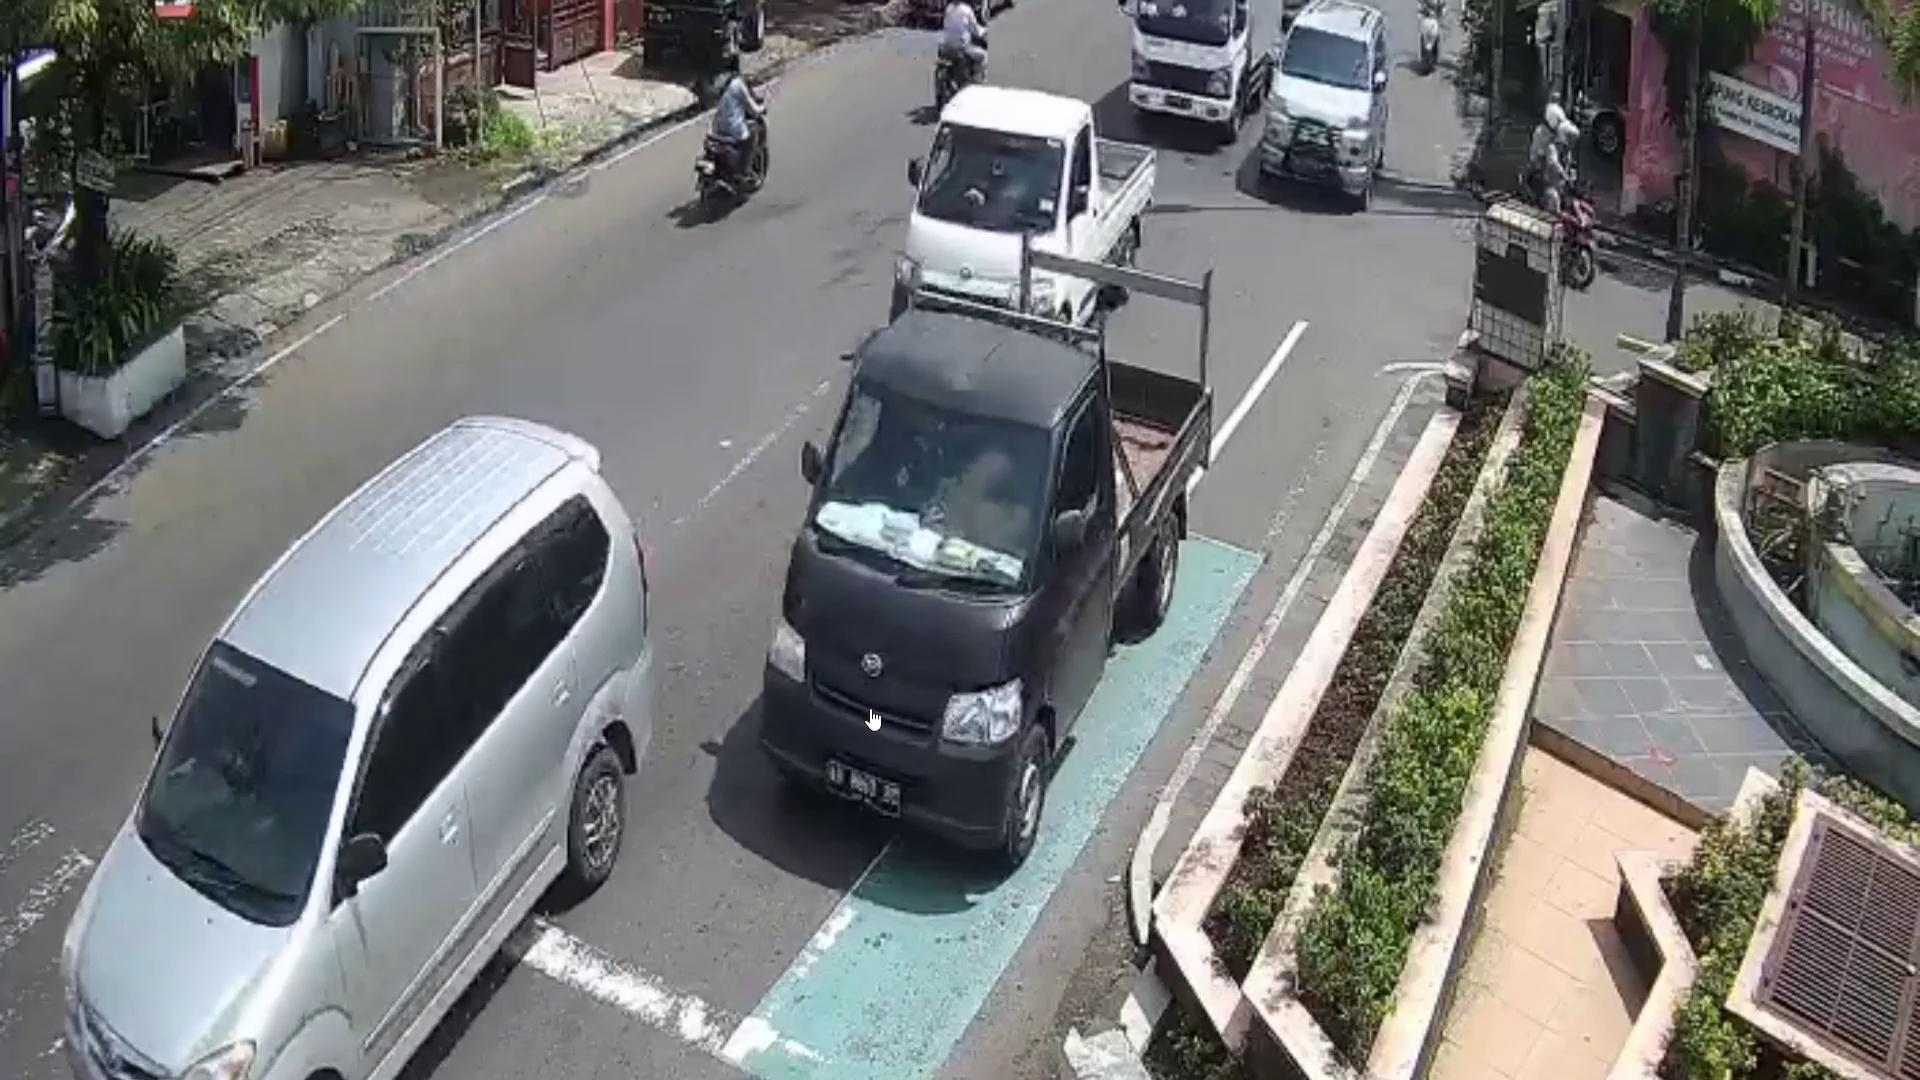car: (59, 411, 649, 1080), (761, 309, 1197, 868), (890, 80, 1155, 378), (1259, 0, 1394, 204)
motorbike: (694, 90, 769, 219), (1552, 181, 1605, 293)
truck: (1126, 0, 1269, 138)
